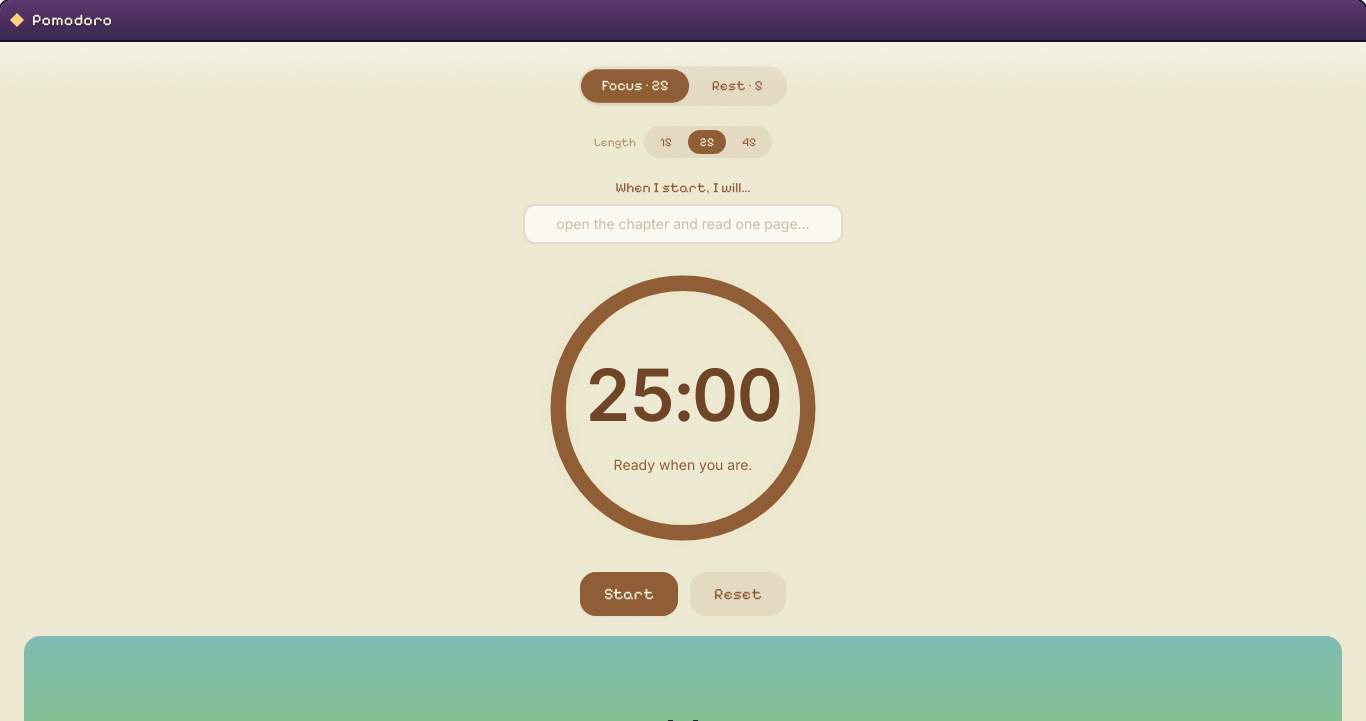
Test: PomodoroTimer (timestamp-based countdown) › records the chosen length (15) as the session minutes on completion
The image size is (1366, 721).
Click the button named "15 minute focus" at [666, 142], box [648,130,684,154]
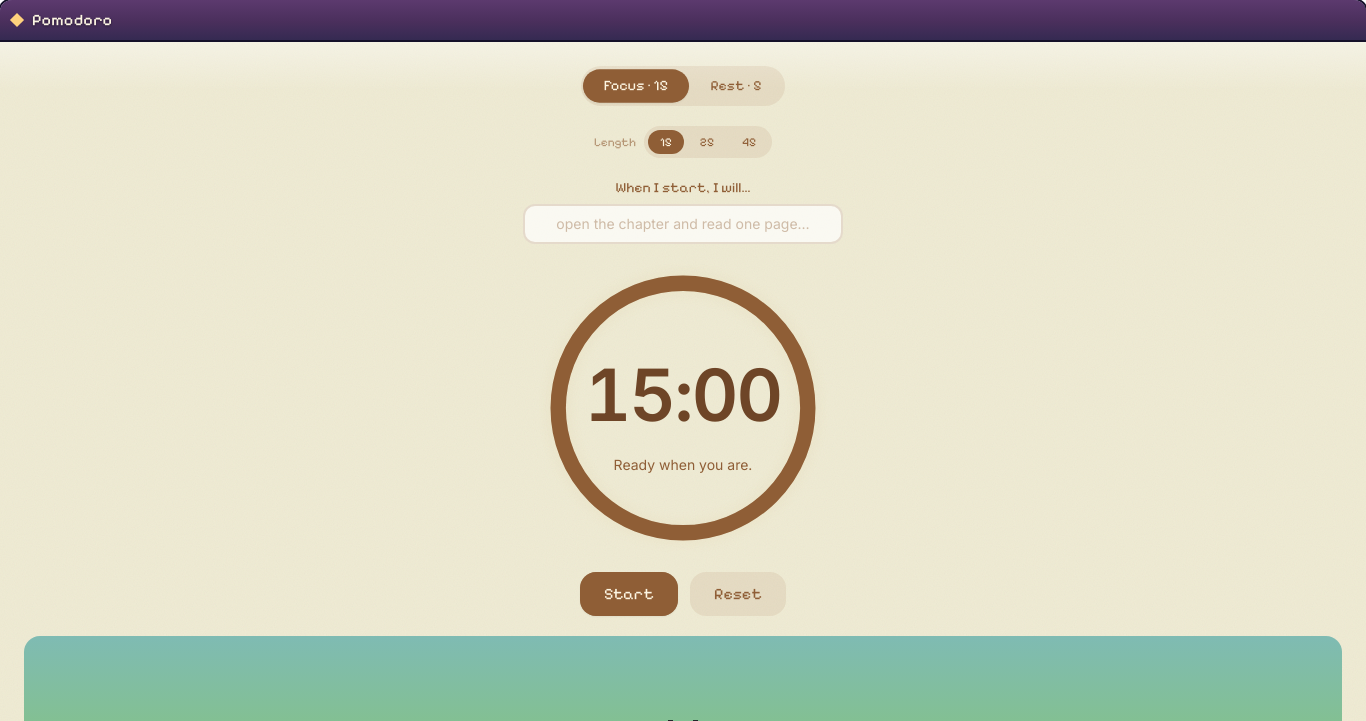
Click the button "Start" at [629, 594], box [580,572,678,616]
Wait 900000 ms
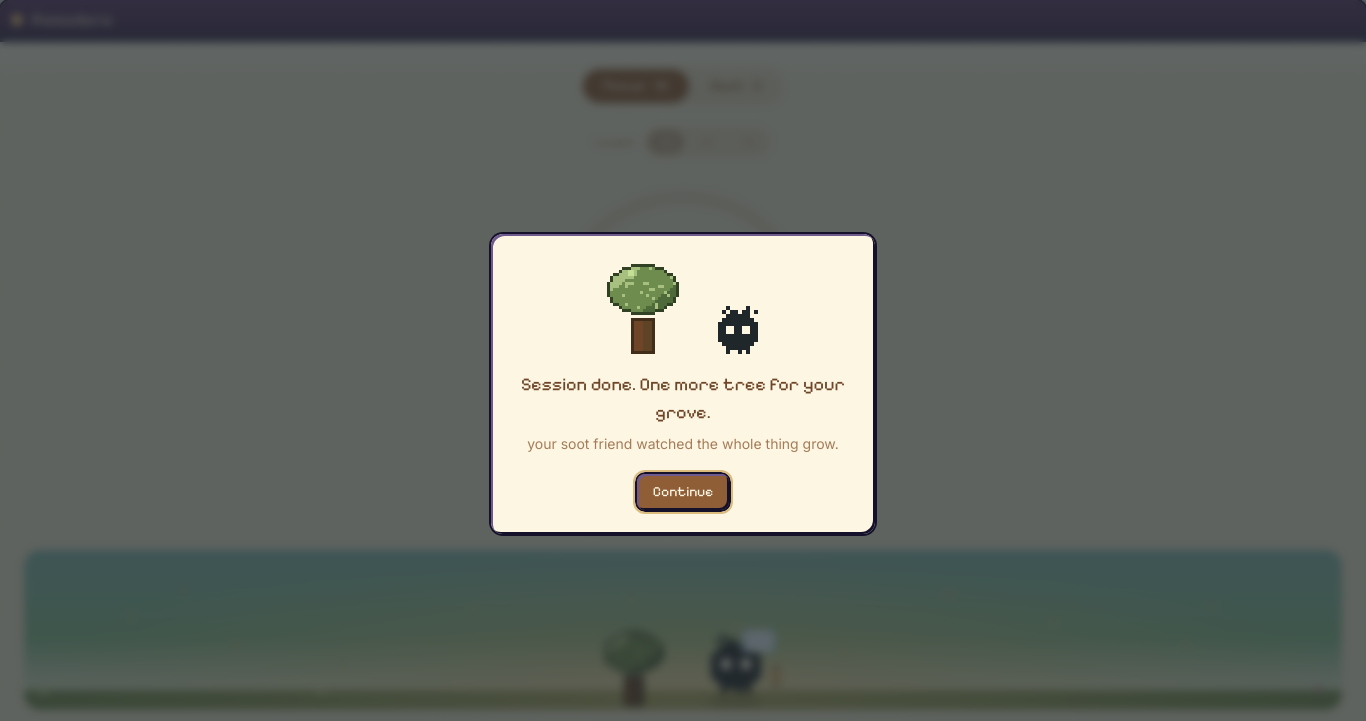
Check: the text "Session done." is shown, box [636,369,730,389]
